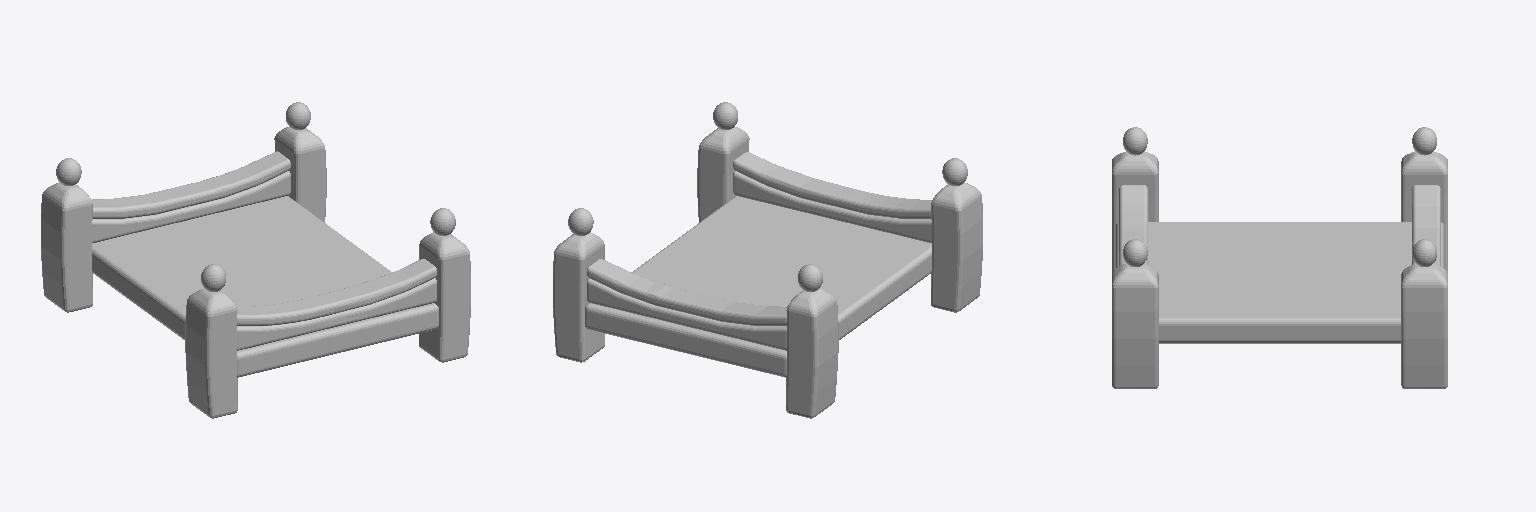
Rendered from CreamBed.obj.
3 views of the same model, side by side, from view 1: azimuth 30°, elevation 25°; view 2: azimuth 150°, elevation 25°; view 3: azimuth 270°, elevation 25° (orthographic).
Parts seen in each view (by area): view 1: Cream_Bed_Plane.004; view 2: Cream_Bed_Plane.004; view 3: Cream_Bed_Plane.004.
Part boxes in pixels (x1,y1,x2,y2): Cream_Bed_Plane.004: (41, 102, 470, 418); Cream_Bed_Plane.004: (553, 102, 982, 418); Cream_Bed_Plane.004: (1112, 127, 1447, 388).
Bounding box in the file's own units: 1.13 × 0.5843 × 1.24.